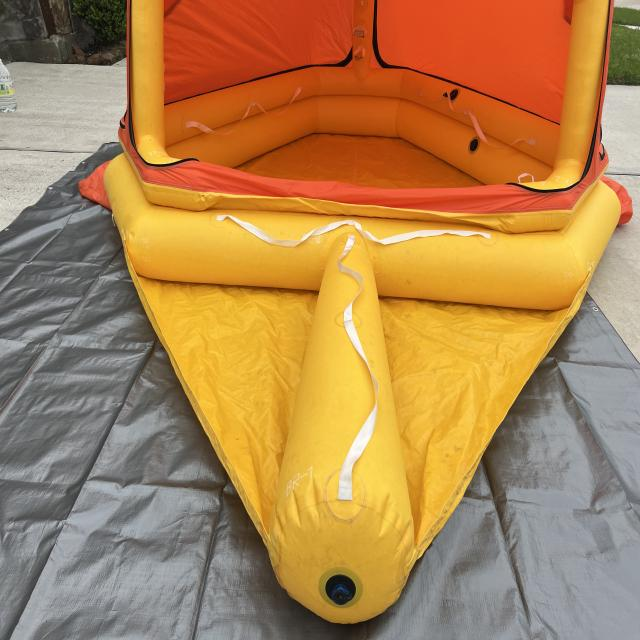Multi-person_life_raft: (78, 1, 634, 625)
